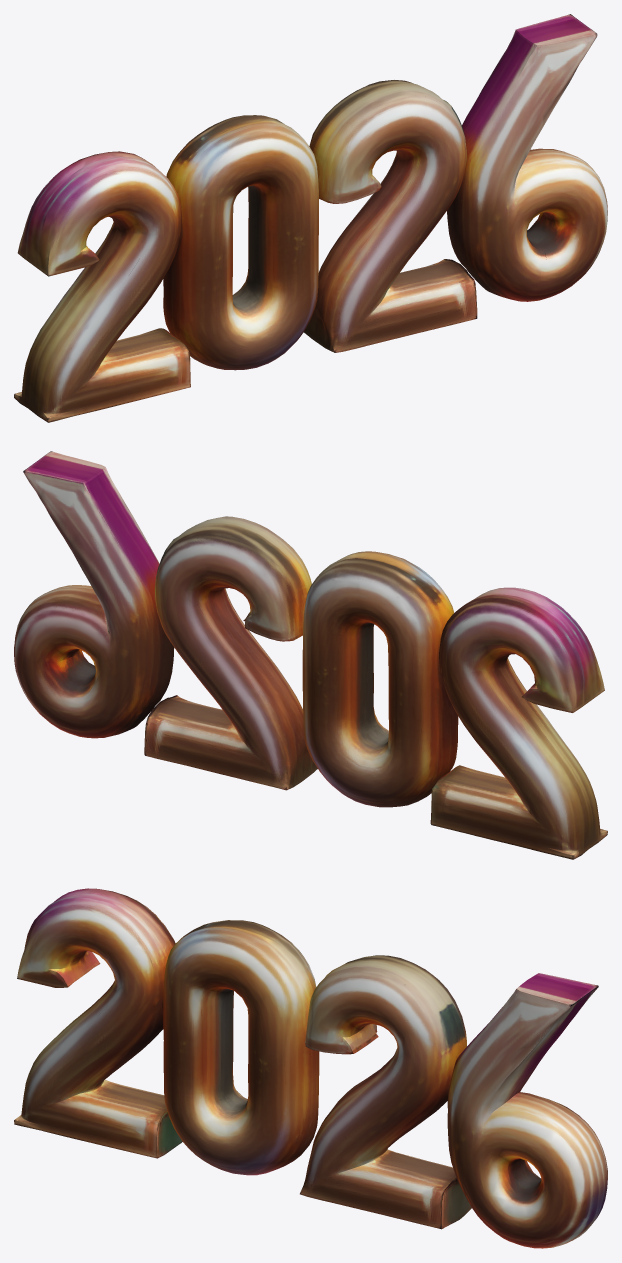
Rendered from 2026_year.glb.
3 renders of one model, top to bottom at view 1: azimuth 30°, elevation 25°; view 2: azimuth 150°, elevation 25°; view 3: azimuth 330°, elevation 25°, orthographic.
Visible parts, largest first — view 1: world_0; view 2: world_0; view 3: world_0.
Boxes of the visible parts, <box> form: world_0: <box>14,14,607,422</box>; world_0: <box>14,451,607,859</box>; world_0: <box>14,888,607,1248</box>.
Bounding box in the file's own units: 1 × 0.4359 × 0.1196.
1 material, 1 textured.
